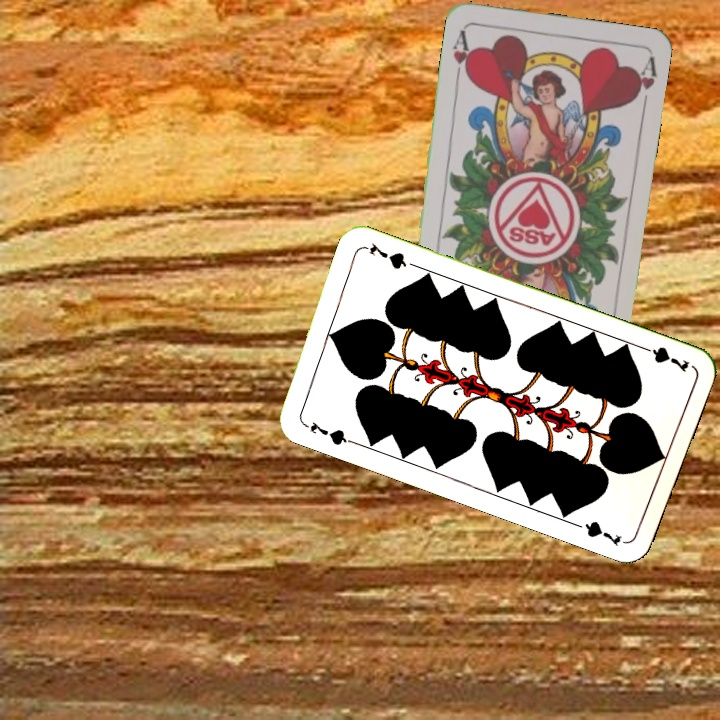G7: (635, 341, 693, 375), (298, 417, 355, 448)
HA: (448, 25, 476, 84)
